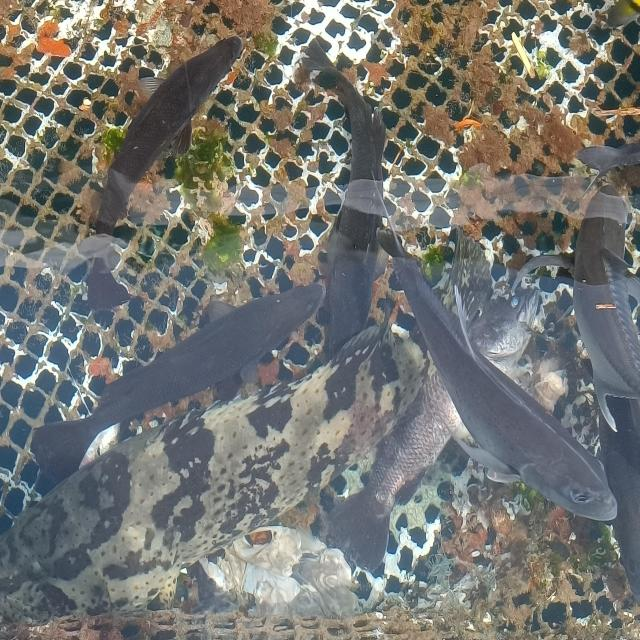ikan: (319, 222, 619, 578), (28, 280, 327, 500), (297, 36, 396, 362), (511, 183, 639, 433), (92, 34, 244, 238)
